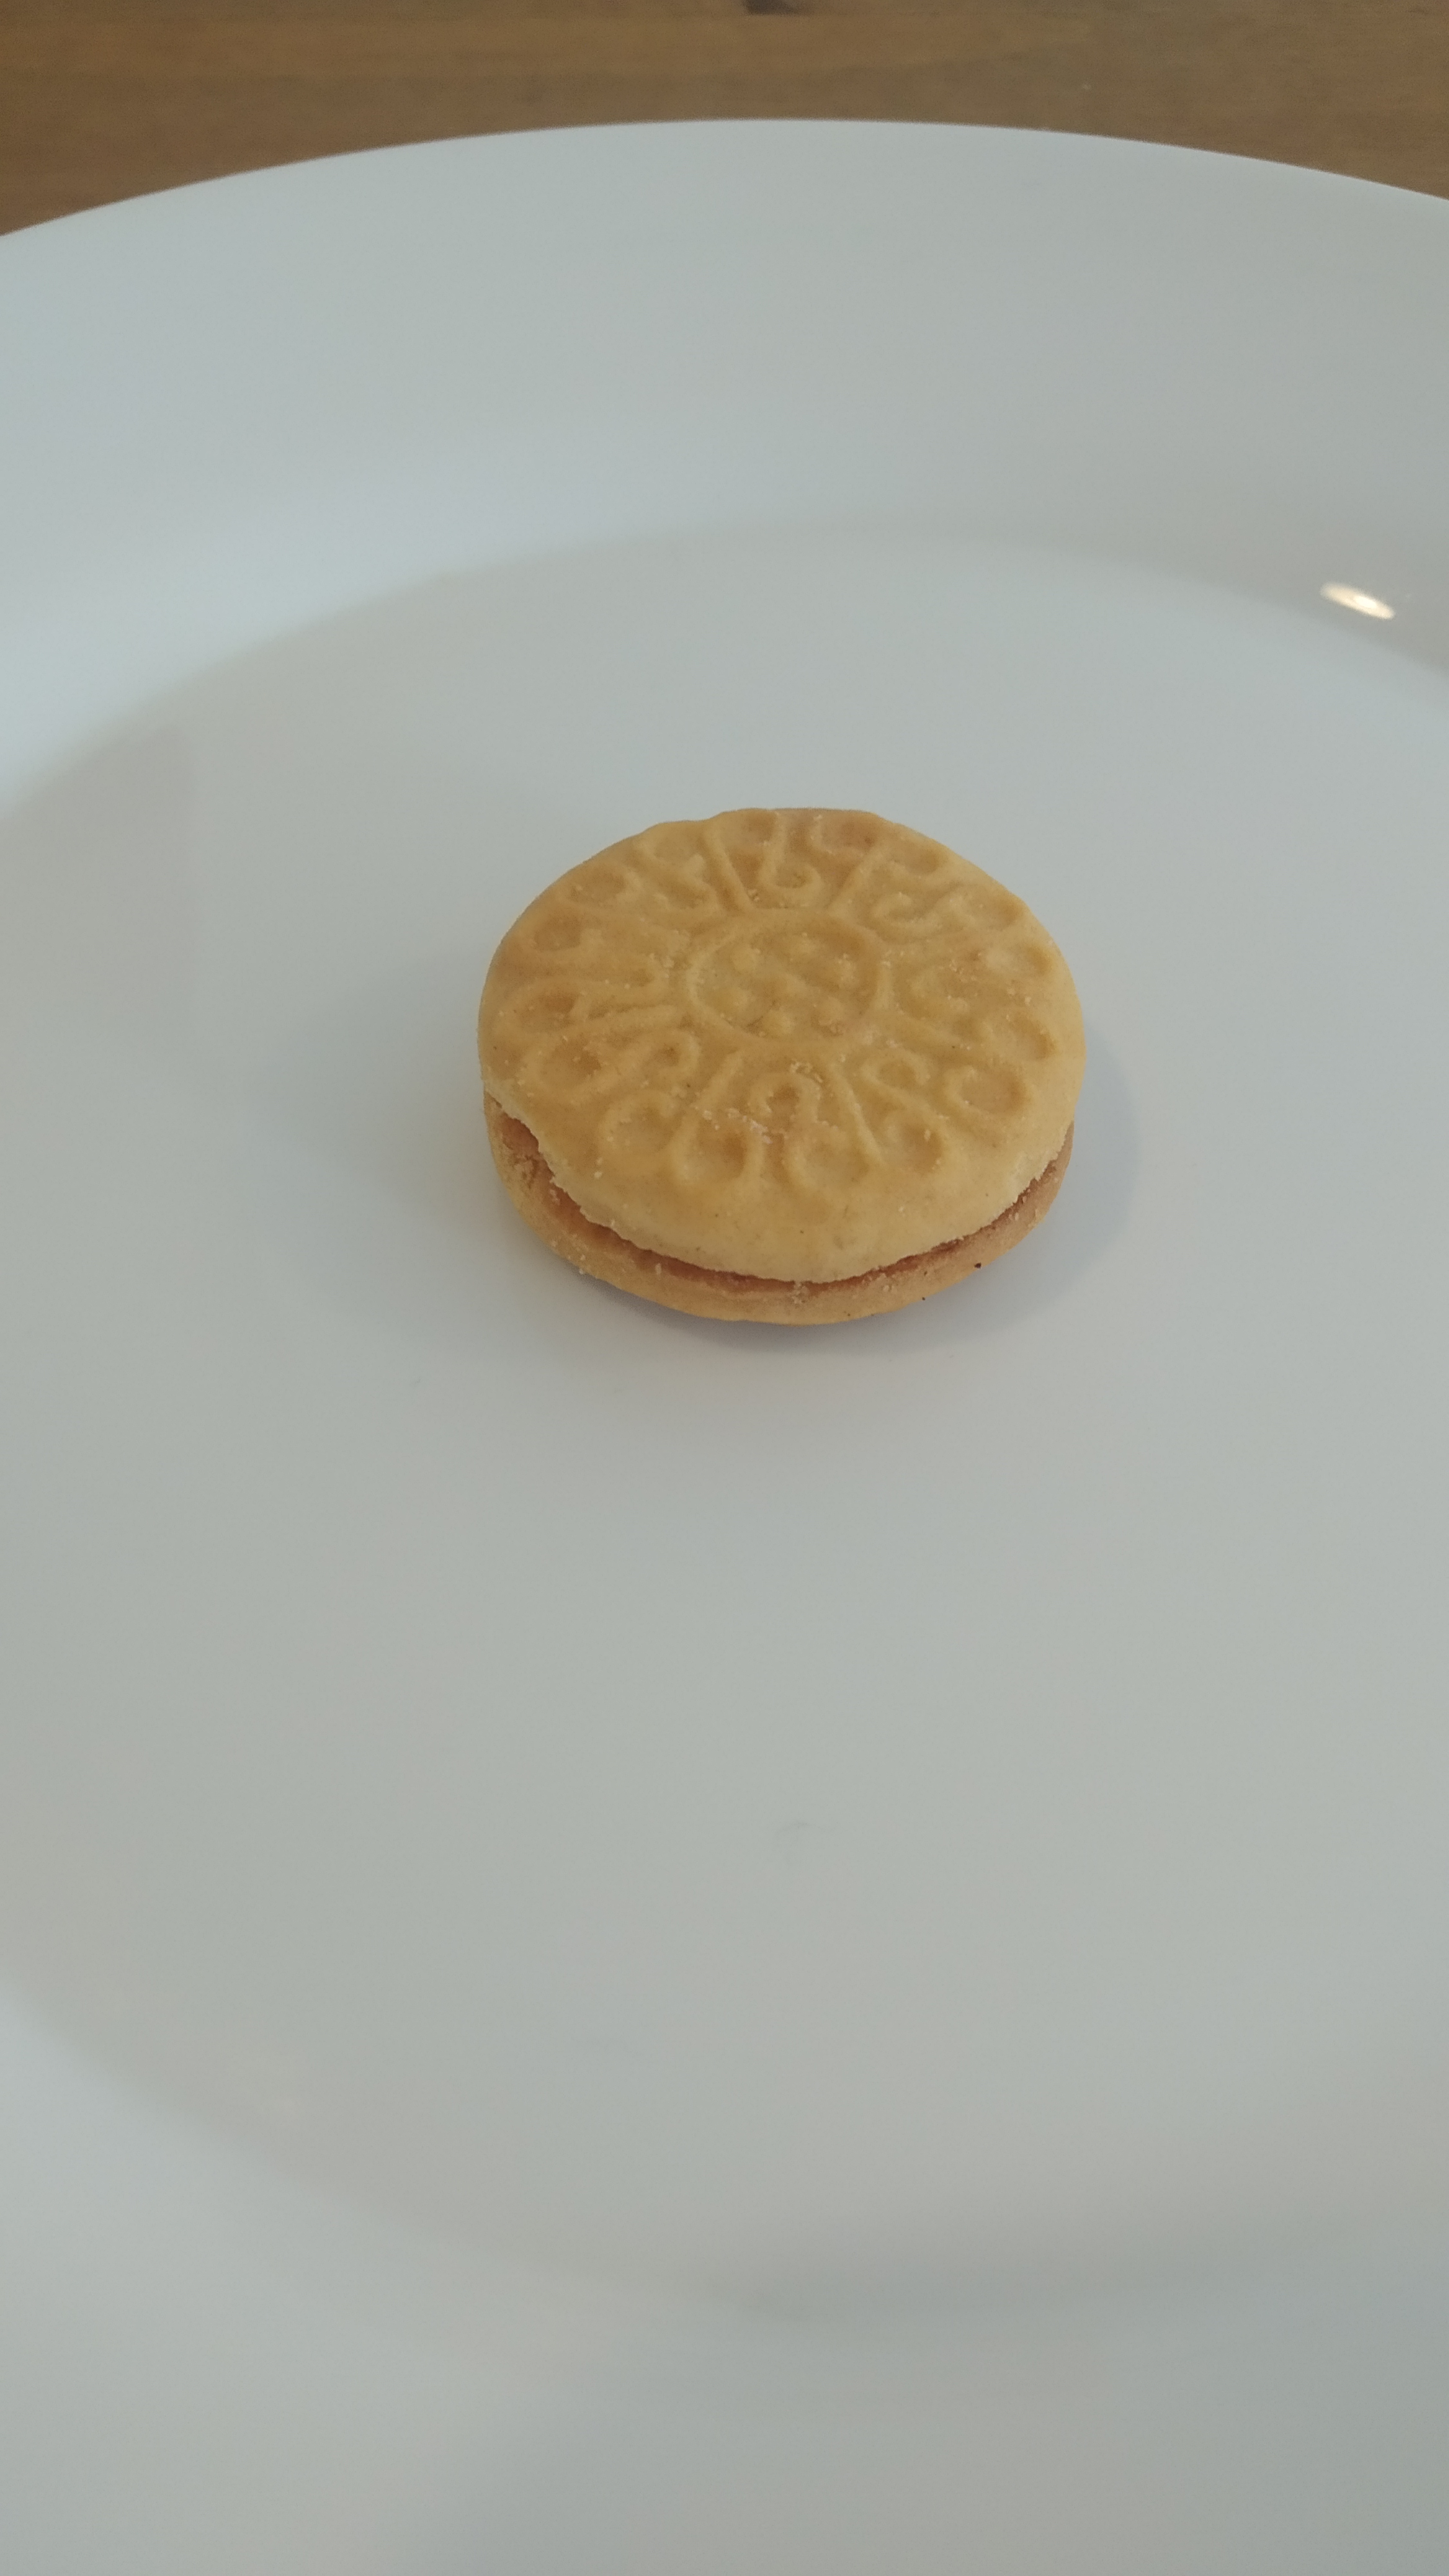lulu: (474, 805, 1085, 1325)
